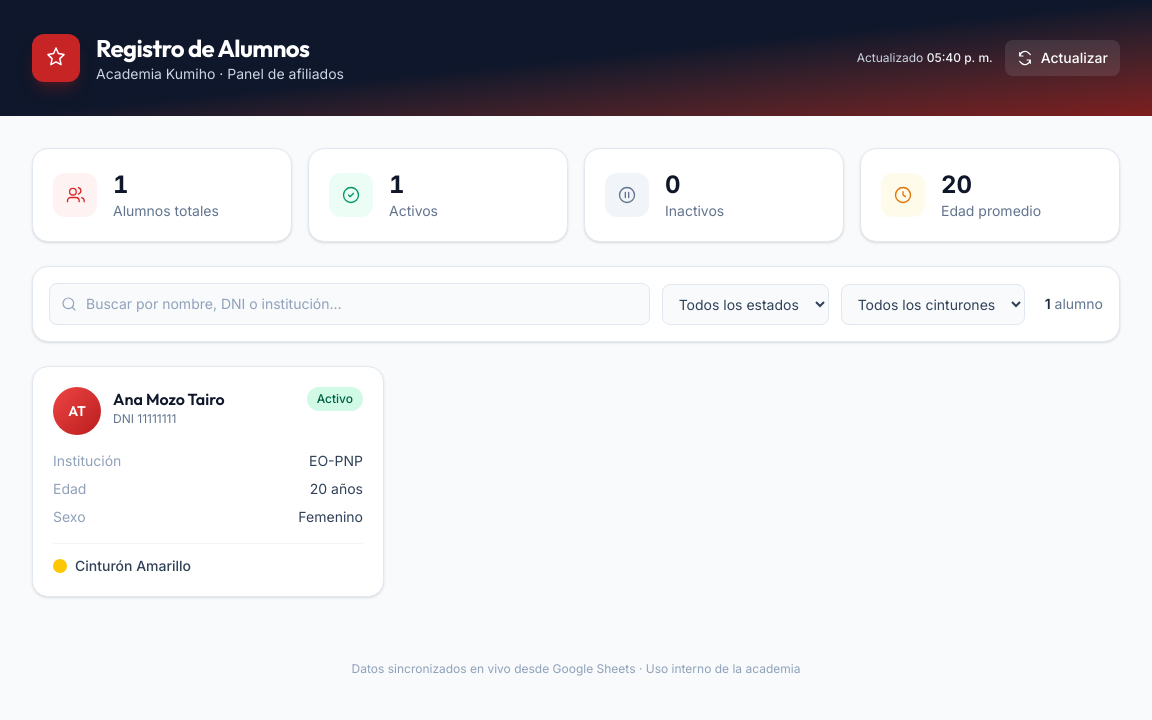
App › shows the empty state when filters exclude every student
The width and height of the screenshot is (1152, 720).
Type "nombre inexistente" into the search field named "Buscar alumnos" at (349, 304), box [49,283,650,325]
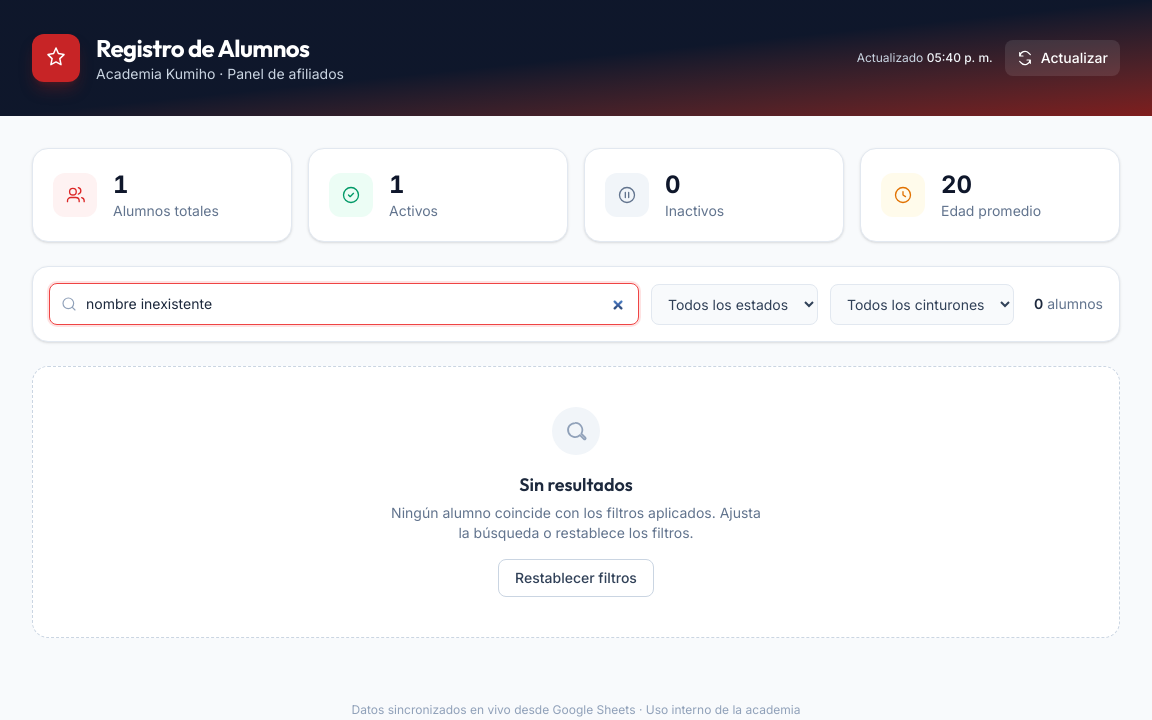
Expected: the text "Sin resultados" is shown, [519,473,633,496]
